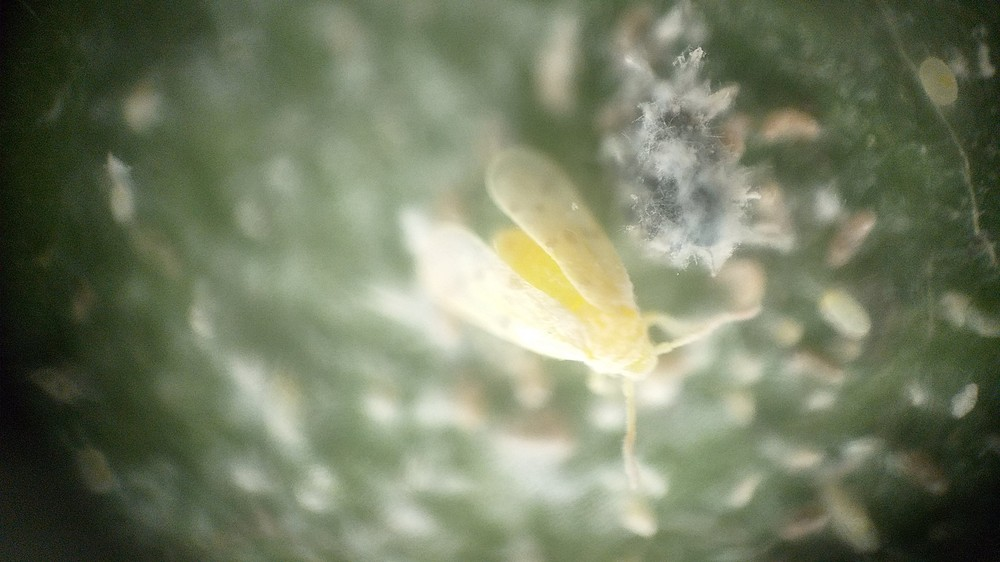Mosca Blanca: (399, 133, 790, 499)
